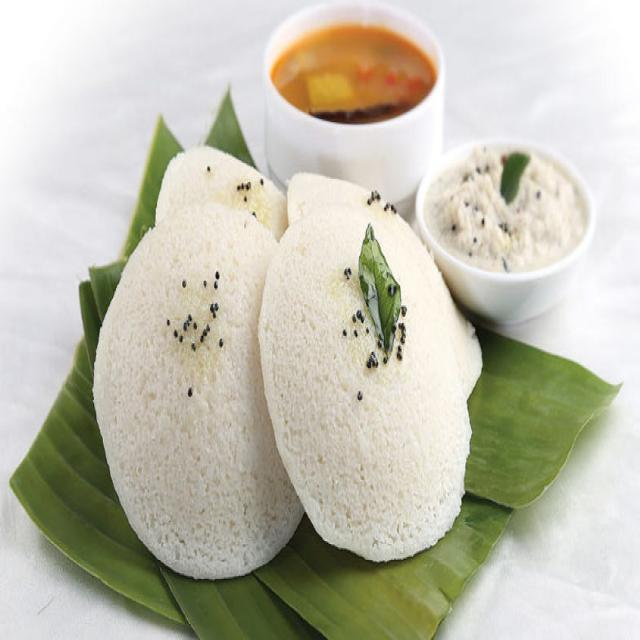Idly: (87, 198, 300, 602), (251, 198, 476, 564)
